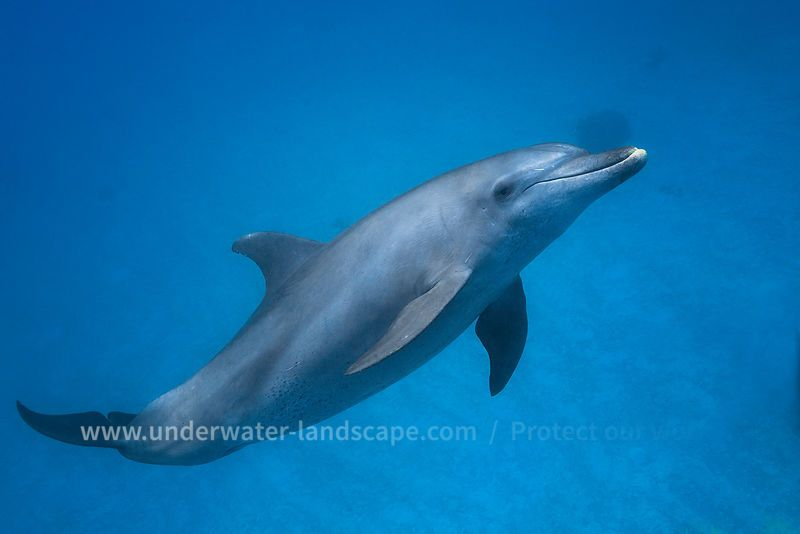dolphin: (36, 115, 653, 472)
